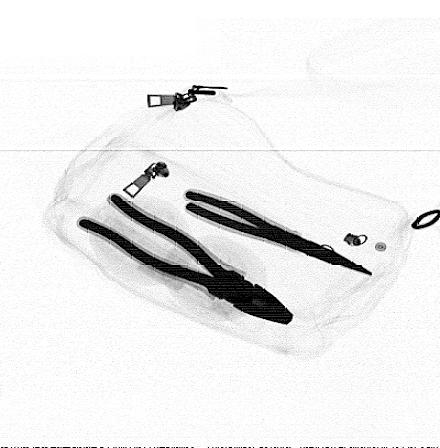Pliers: (74, 191, 296, 327), (181, 187, 375, 277)
